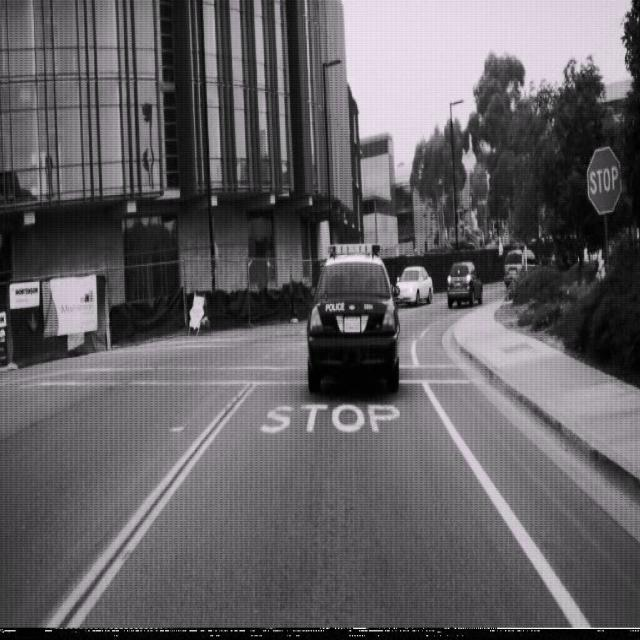stop: (586, 144, 622, 214)
